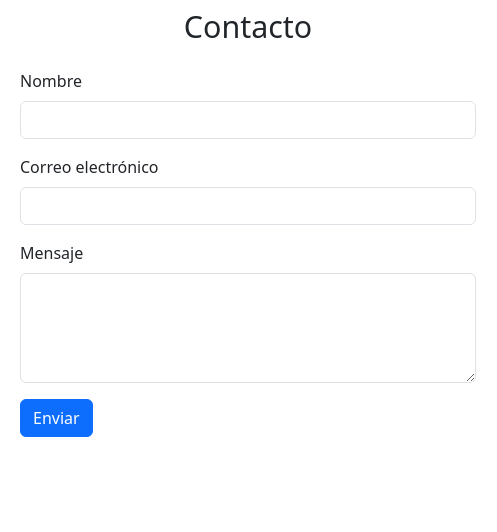
ContactForm › oculta la confirmación al volver a escribir
The image size is (497, 532).
Type "Ada" into the field labelled "Nombre".
click(248, 120); type("Ada")  # box [20,100,476,138]
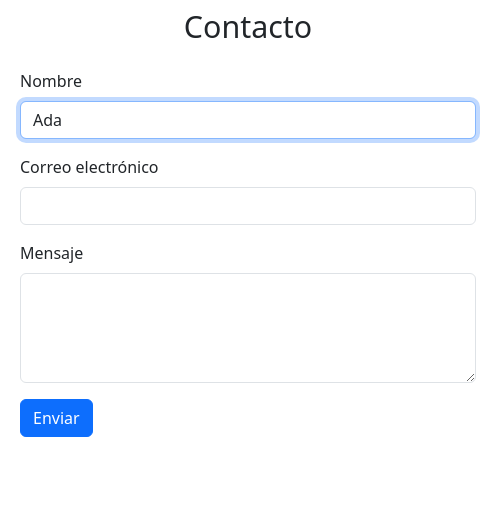
Type "ada@correo.cl" into the field labelled "Correo electrónico".
click(248, 206); type("ada@correo.cl")  # box [20,186,476,224]
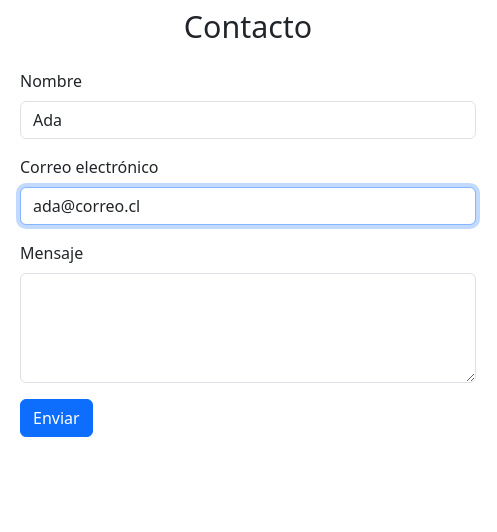
Type "Hola, este es un mensaje." into the text box labelled "Mensaje".
click(248, 328); type("Hola, este es un mensaje.")  # box [20,272,476,382]
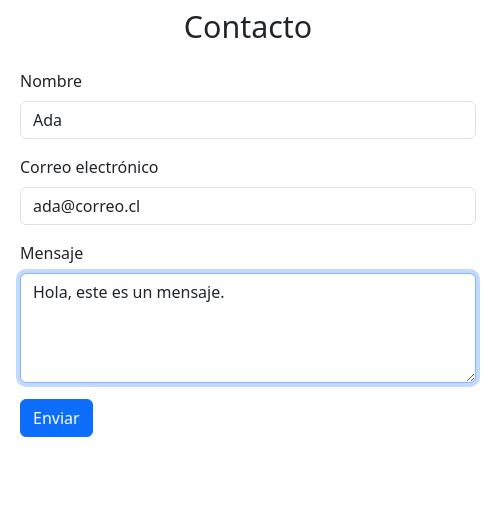
Click the button "Enviar".
click(56, 418)  # box [20,398,93,436]
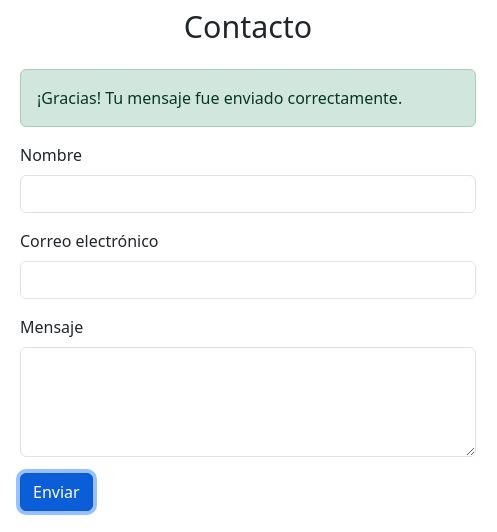
Expected: the message "¡Gracias! Tu mensaje fue enviado correctamente." is shown, [20,68,476,126]
Type "B" into the field labelled "Nombre".
click(248, 194); type("B")  # box [20,174,476,212]
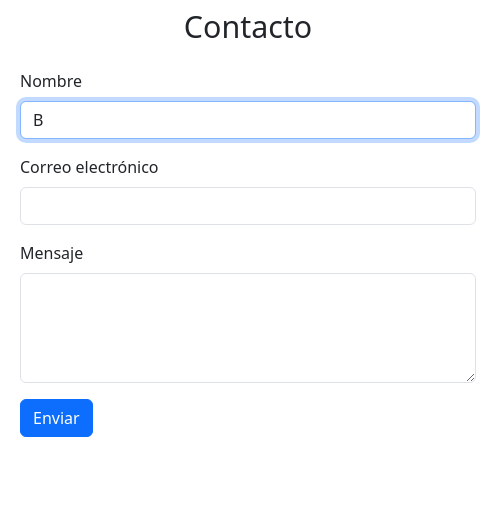
Expected: the message "¡Gracias! Tu mensaje fue enviado correctamente." is gone
